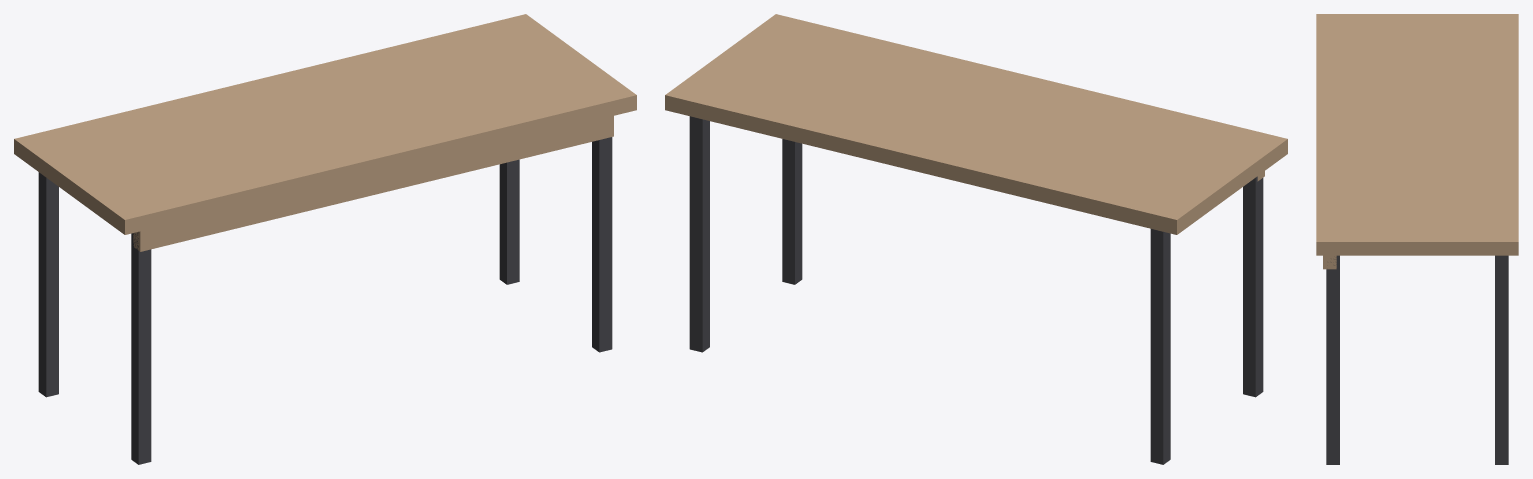
3 views of the same model, side by side, from view 1: azimuth 30°, elevation 25°; view 2: azimuth 150°, elevation 25°; view 3: azimuth 270°, elevation 25° (orthographic). The views are drawn at different scales.
Parts seen in each view (by area): view 1: desk; view 2: desk; view 3: desk.
Boxes of the visible parts, x1,y1,x2,y2 form: desk: (14,14,636,464); desk: (665,14,1287,464); desk: (1316,14,1518,464).
Size of the model in its own units: 1.6 by 0.7575 by 0.6.
